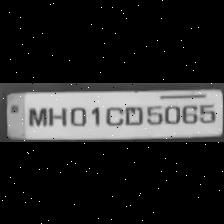0: (66, 103, 88, 127), (162, 100, 182, 124)
1: (88, 103, 104, 127)
5: (197, 99, 217, 125), (144, 100, 164, 124)
6: (181, 100, 199, 124)
C: (102, 101, 122, 126)
D: (122, 101, 146, 127)
H: (47, 103, 65, 127)
M: (24, 102, 50, 125)
